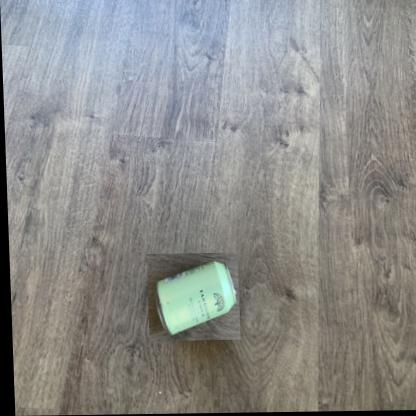trash: (157, 261, 236, 335)
